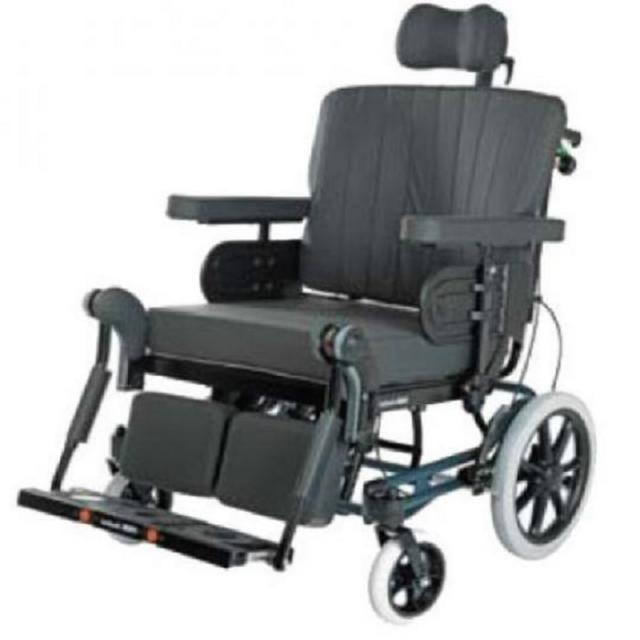wheelchair: (16, 0, 640, 632)
